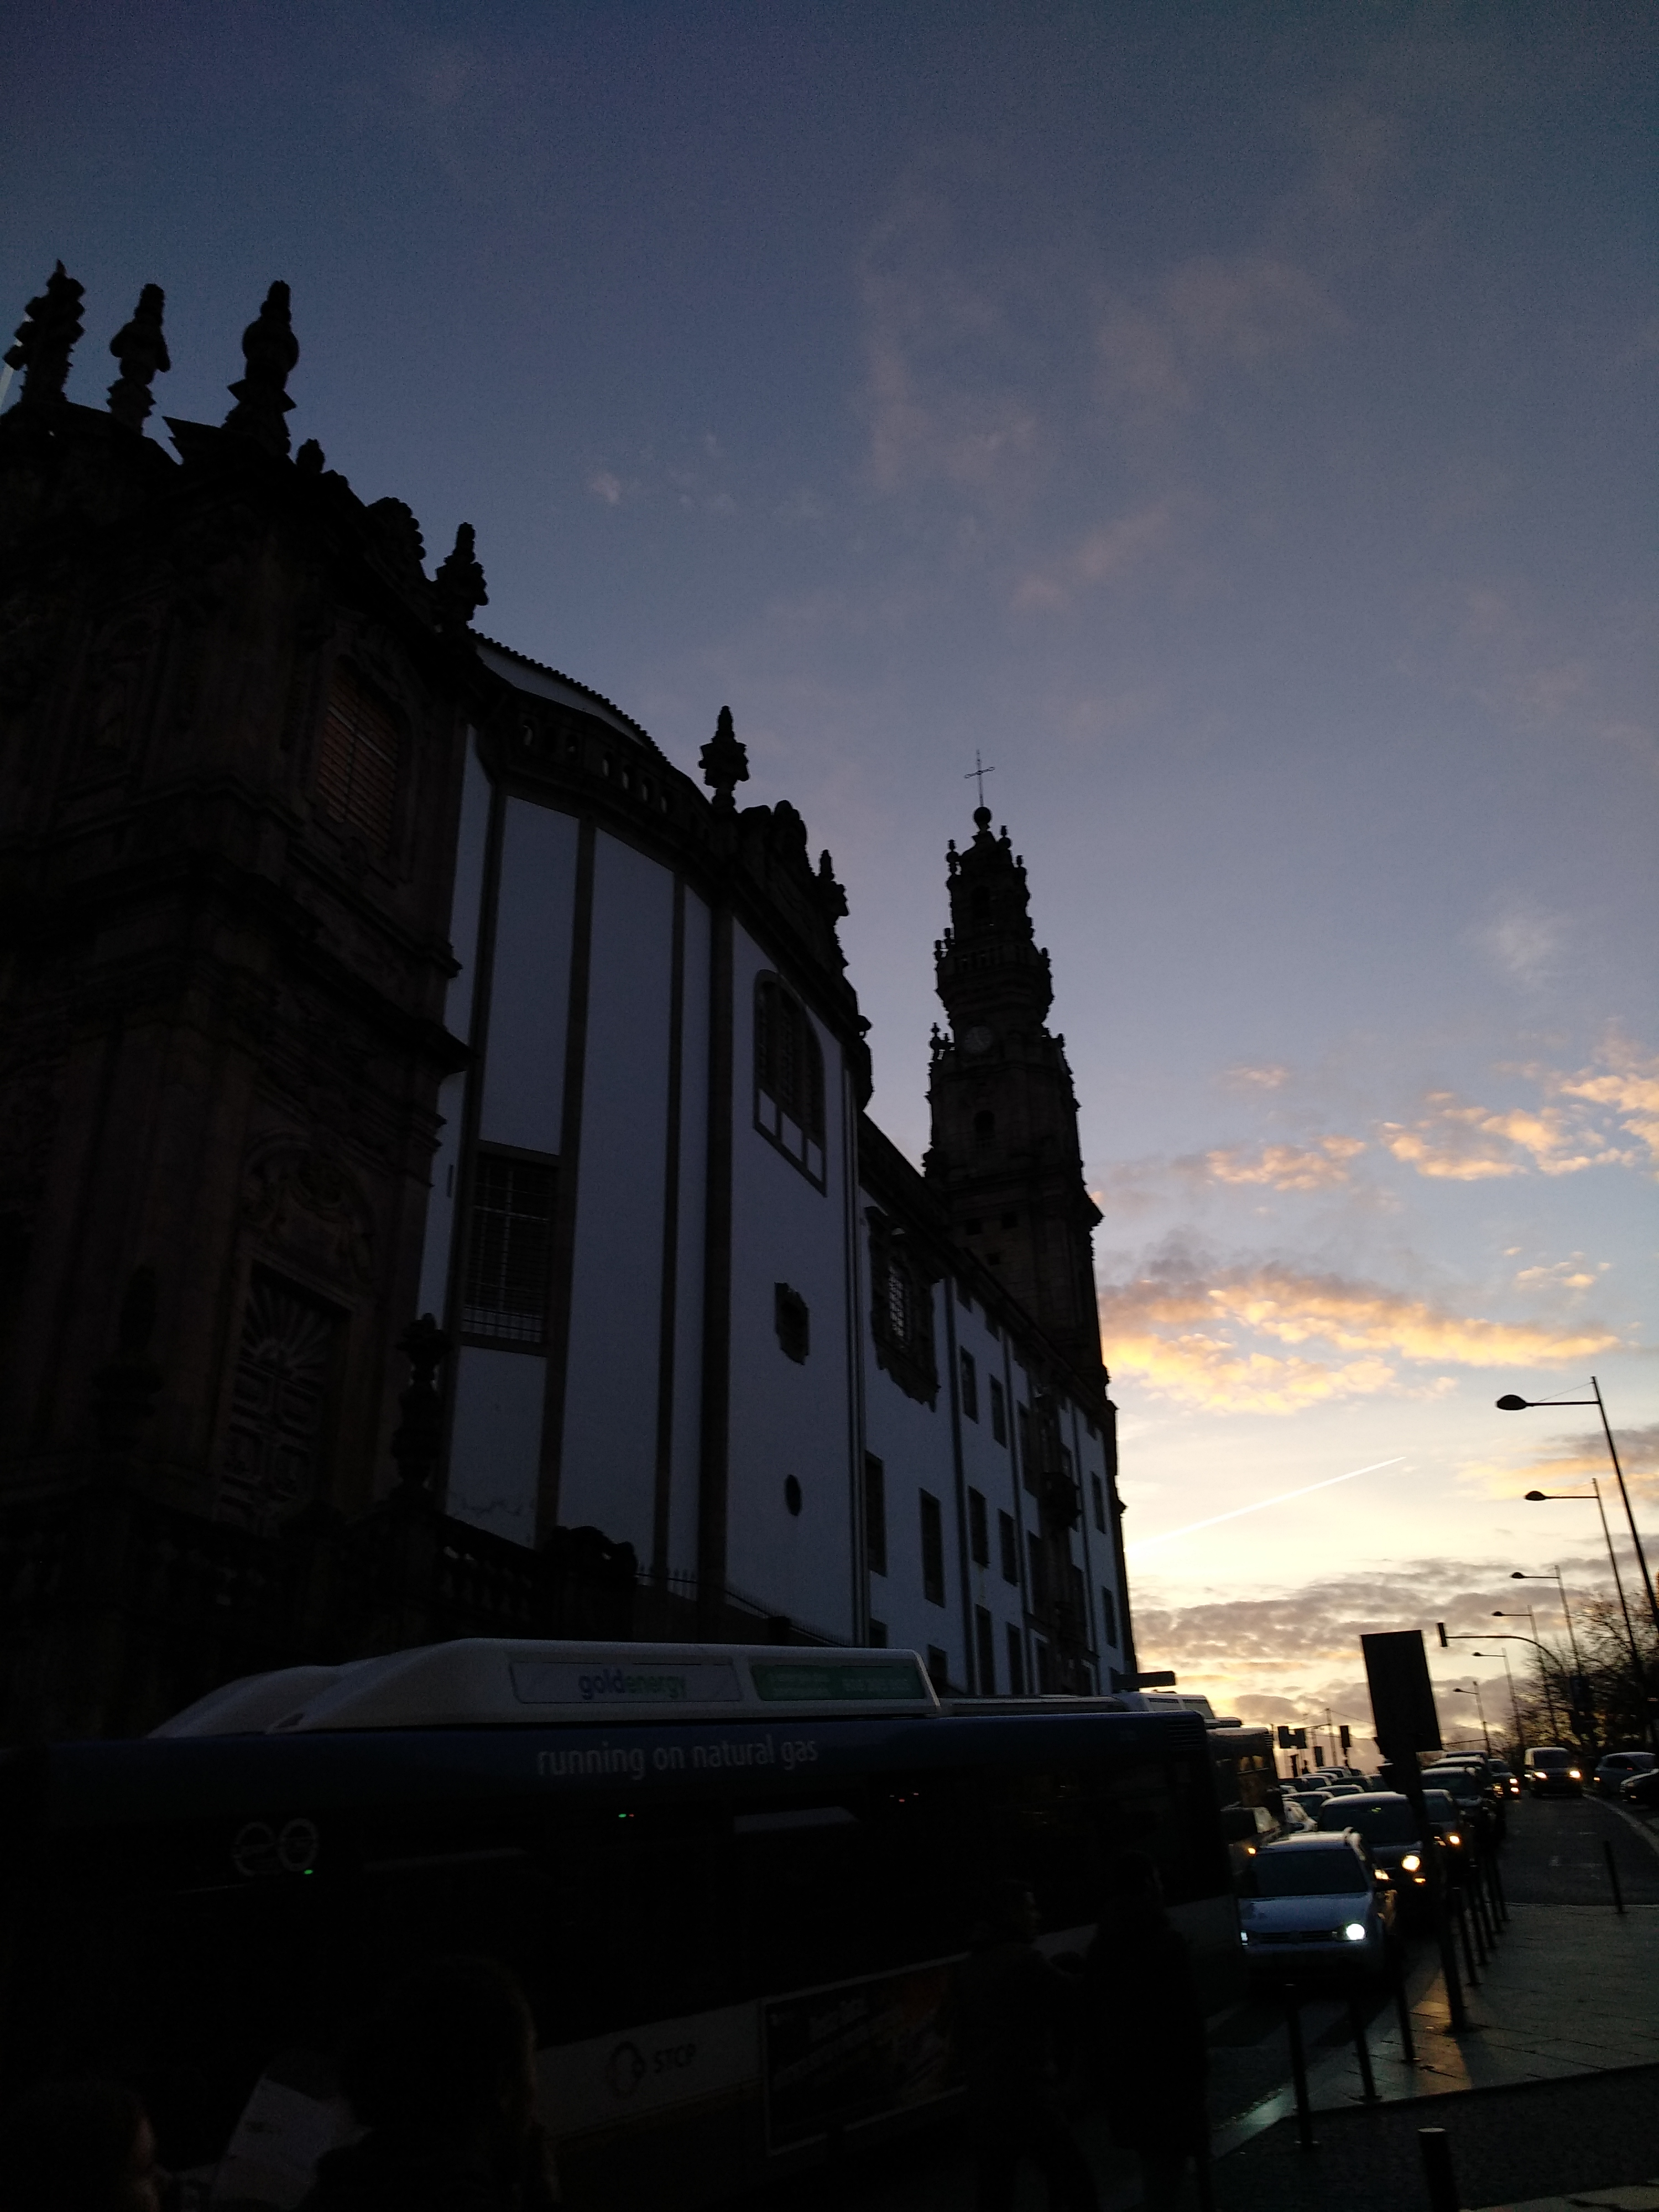clerigos: (904, 754, 1108, 1345)
